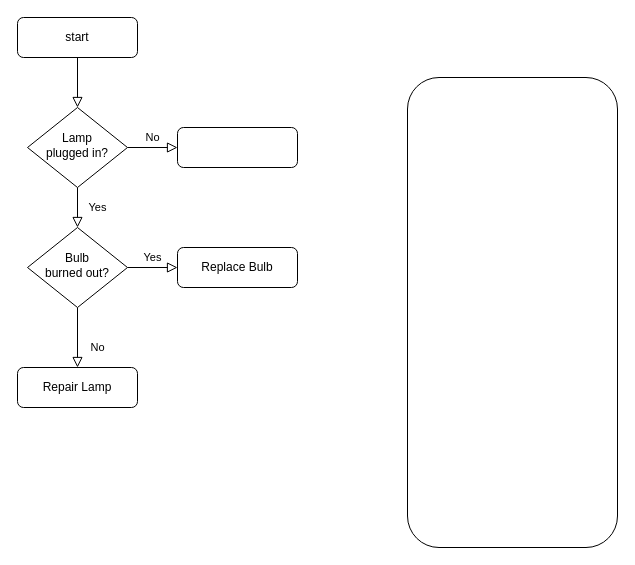
This 635x565 diagram has some shape labels left out. The shapes that lost their labels are listed below. From the top down, each one's box as (x1, y1, x2, y2) in pixels, then its label:
(176, 126, 298, 168): Plug in lamp
(406, 76, 618, 548): 전화번호 배열 phone_book = [] 구조대 119 친구 119 513 -> false 중복 x
